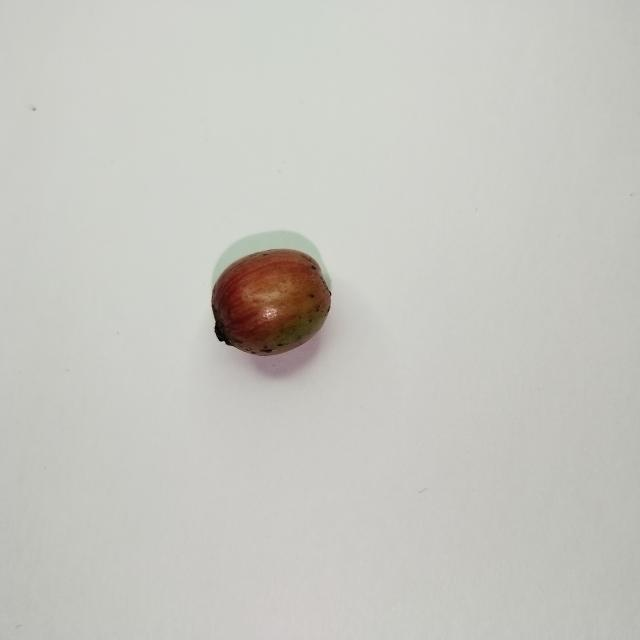Sano: (212, 250, 330, 355)
